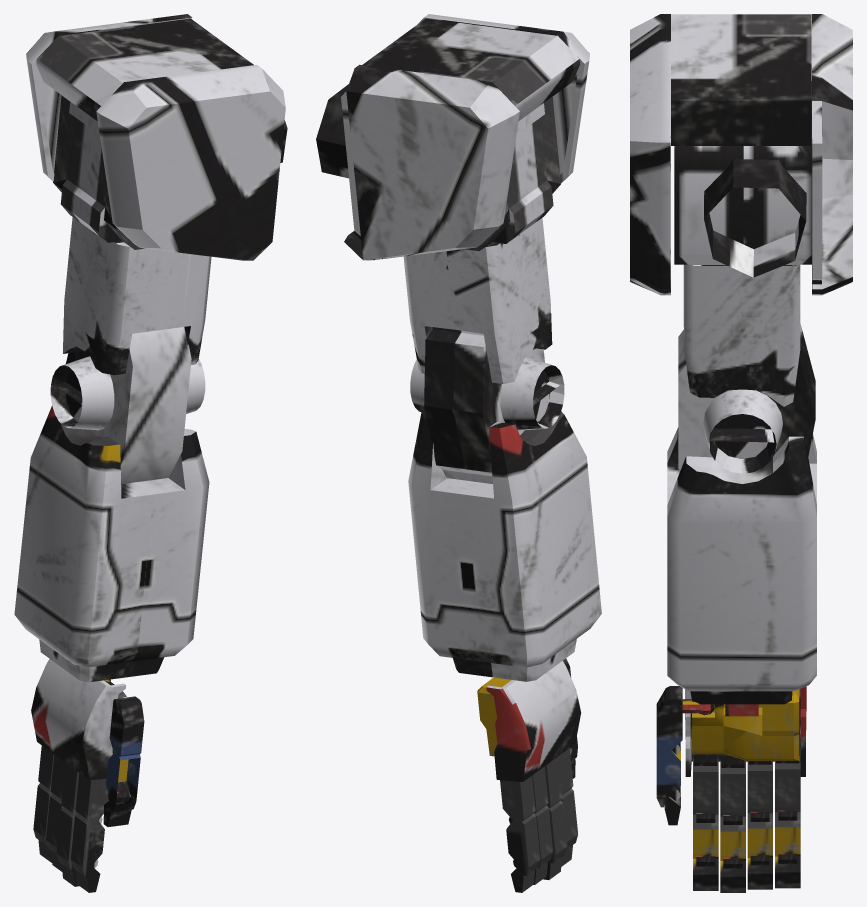
File: handA.obj
3 views of the same model, side by side, from view 1: azimuth 30°, elevation 25°; view 2: azimuth 150°, elevation 25°; view 3: azimuth 270°, elevation 25° (orthographic). The views are drawn at different scales.
Parts seen in each view (by area): view 1: Gundam:polySurface666; view 2: Gundam:polySurface666; view 3: Gundam:polySurface666.
Part boxes in pixels (x1,y1,x2,y2): Gundam:polySurface666: (14, 14, 287, 892); Gundam:polySurface666: (316, 14, 601, 892); Gundam:polySurface666: (630, 14, 852, 892).
Bounding box in the file's own units: 3.53 × 12.02 × 2.73.
